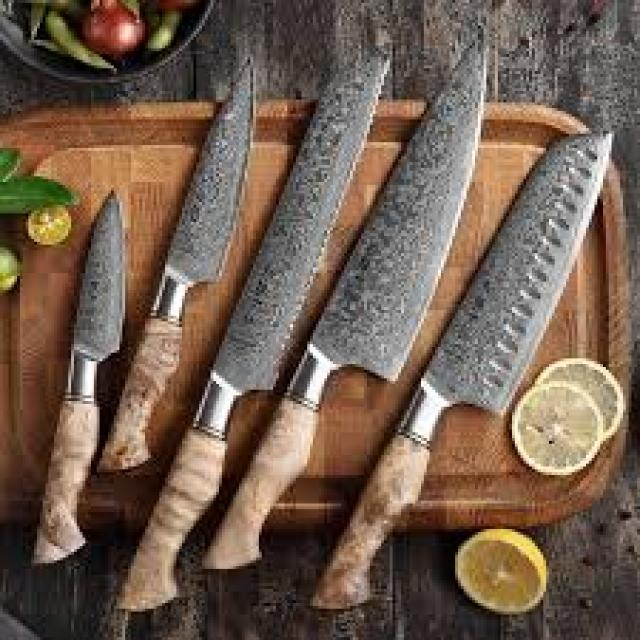Knife: (147, 46, 412, 593)
